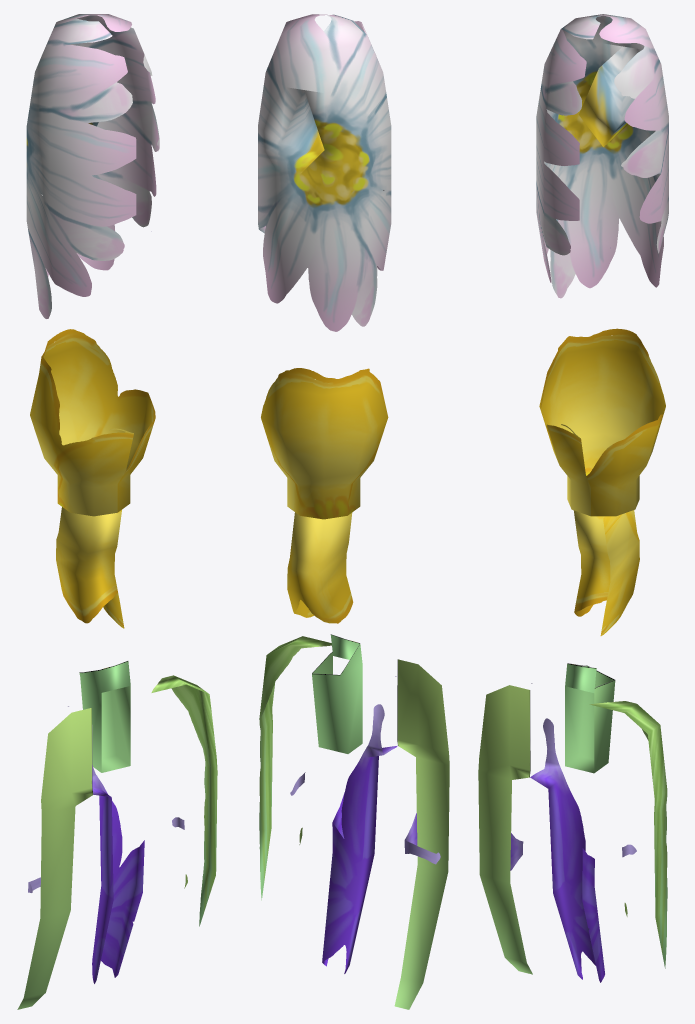
The model's file is minifork.fbx.
3 renders of one model, left to right at view 1: azimuth 30°, elevation 25°; view 2: azimuth 150°, elevation 25°; view 3: azimuth 330°, elevation 25°, orthographic.
Visible parts, largest first — view 1: MiniFork; view 2: MiniFork; view 3: MiniFork.
Boxes of the visible parts, left/top/right/bottom form: MiniFork: left=17, top=14, right=217, bottom=1009; MiniFork: left=258, top=14, right=449, bottom=1009; MiniFork: left=478, top=14, right=668, bottom=982.
Size of the model in its own units: 6.61 by 34.94 by 4.54.
